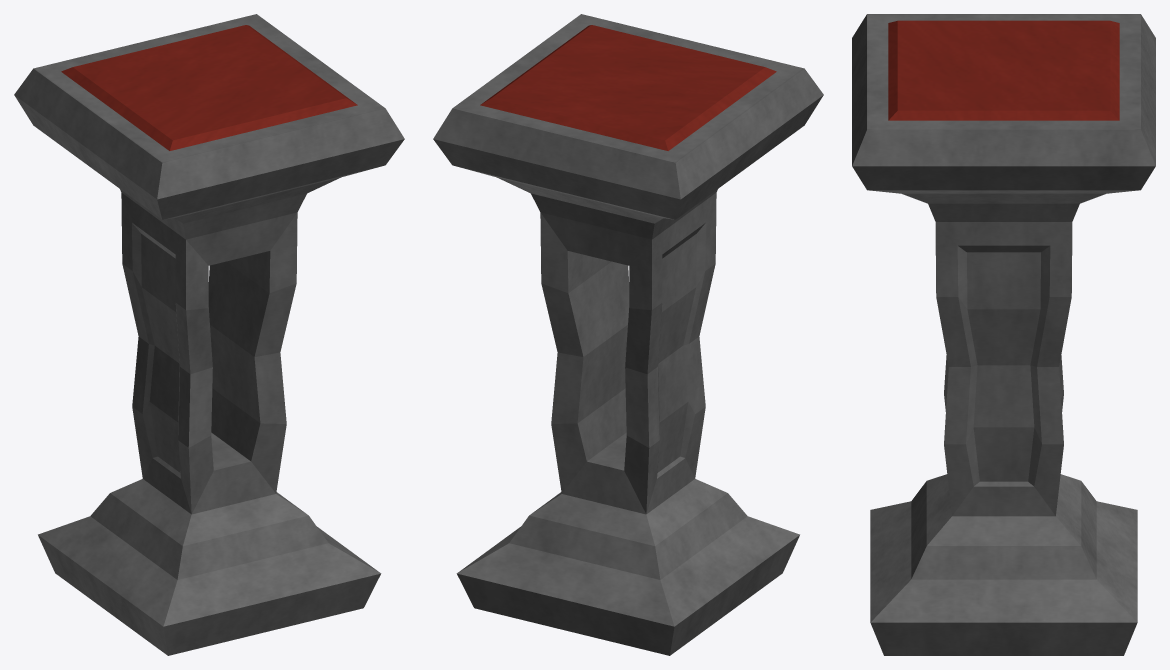
The model's file is Pedastal.fbx.
The picture shows the model from 3 angles, left to right: view 1: azimuth 30°, elevation 25°; view 2: azimuth 150°, elevation 25°; view 3: azimuth 270°, elevation 25°; orthographic projection. The views are drawn at different scales.
Visible parts, largest first — view 1: Cube; view 2: Cube; view 3: Cube.
Boxes of the visible parts, x1=… form: Cube: x1=14, y1=14, x2=404, y2=655; Cube: x1=433, y1=14, x2=823, y2=655; Cube: x1=852, y1=14, x2=1155, y2=655.
Size of the model in its own units: 227 by 446 by 227.
2 materials, 2 textured.
